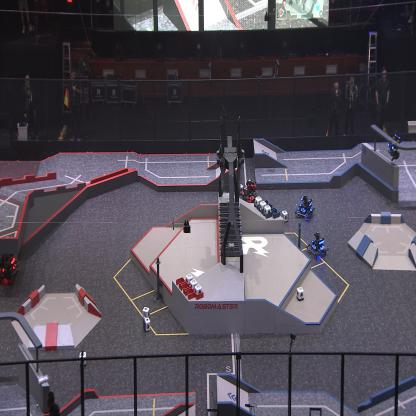car: (0, 237, 20, 284), (306, 230, 329, 260), (295, 193, 316, 220), (240, 178, 259, 205)
